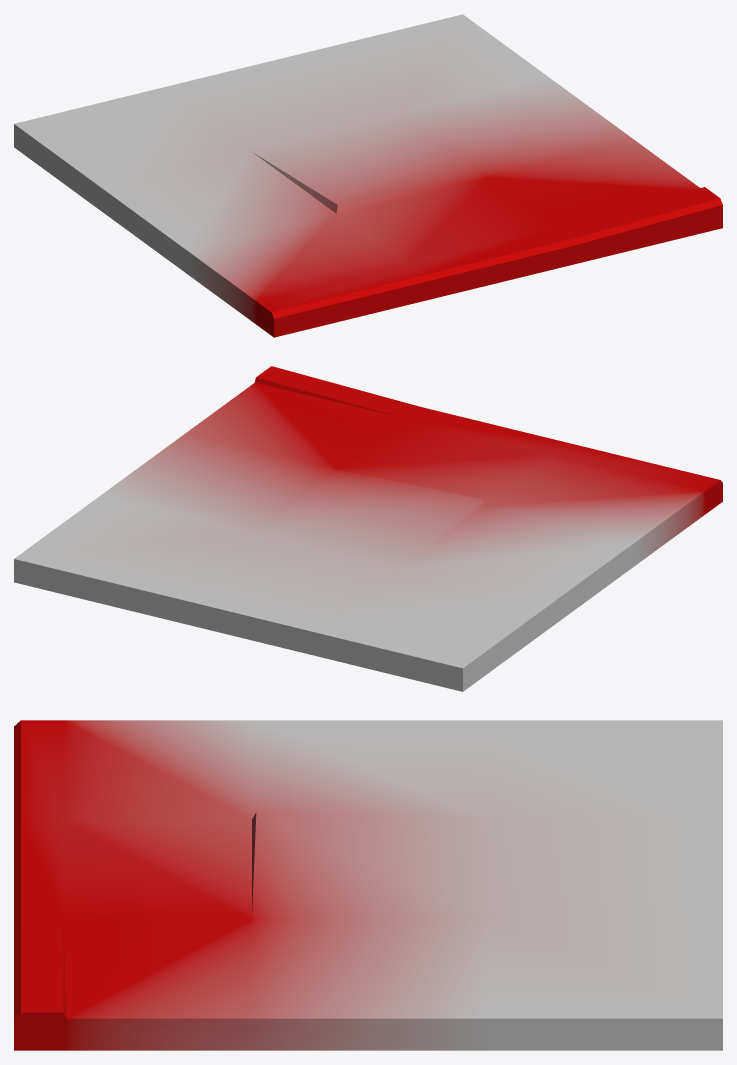
File: Sidewalk_Straight_3m_Broken1.gltf
3 views of the same model, one above another, from view 1: azimuth 30°, elevation 25°; view 2: azimuth 150°, elevation 25°; view 3: azimuth 270°, elevation 25° (orthographic). The views are drawn at different scales.
Visible parts, largest first — view 1: Sidewalk_Straight_3m_Broken1; view 2: Sidewalk_Straight_3m_Broken1; view 3: Sidewalk_Straight_3m_Broken1.
Part boxes in pixels (box(x1,y1,x2,y2)): Sidewalk_Straight_3m_Broken1: box(14, 14, 722, 337); Sidewalk_Straight_3m_Broken1: box(14, 366, 722, 691); Sidewalk_Straight_3m_Broken1: box(14, 720, 722, 1050).
Size of what is drawn, in the model's own units: 3 by 0.1936 by 3.01.
